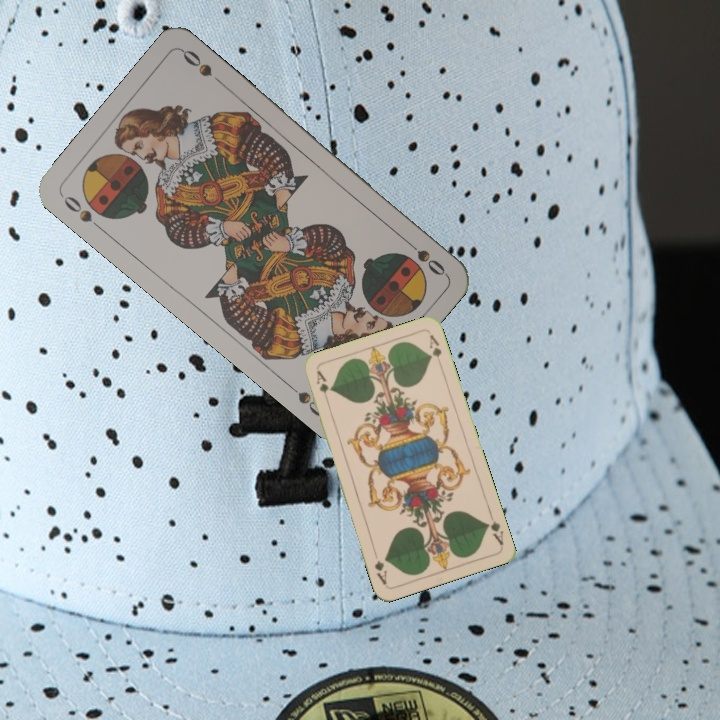GA: (481, 508, 506, 548), (312, 367, 332, 406)
SO: (399, 234, 449, 279), (57, 191, 107, 234)
